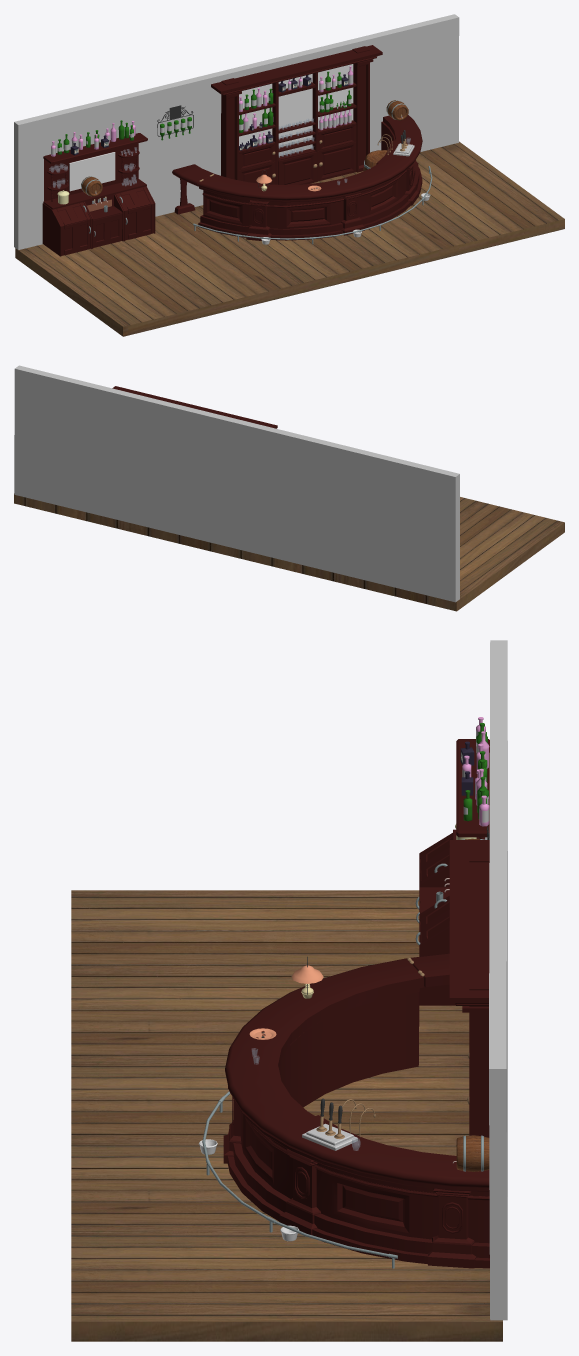
The model's file is Day2_Bar.fbx.
The picture shows the model from 3 angles, top to bottom: view 1: azimuth 30°, elevation 25°; view 2: azimuth 150°, elevation 25°; view 3: azimuth 270°, elevation 25°; orthographic projection. The views are drawn at different scales.
Parts seen in each view (by area): view 1: Plane.038, Wand.Bar, Cube.045, Circle.011, Circle.012, Plane.007, Plane.035, Plane.009, Circle.007, Plane.024, Plane, Plane.025 (+10 smaller); view 2: Wand.Bar, Plane.038, Cube.045; view 3: Plane.038, Circle.011, Circle.012, Wand.Bar, Cube.045, Circle.007, Plane.024, Circle.018, Cube.061, Cylinder.044, Circle.014, Plane.035 (+1 smaller).
Part boxes in pixels (x1,y1,x2,y2): Plane.038: [15, 141, 564, 336]; Wand.Bar: [14, 14, 459, 249]; Cube.045: [211, 45, 382, 184]; Circle.011: [198, 121, 422, 240]; Circle.012: [172, 115, 422, 200]; Plane.007: [239, 64, 353, 146]; Plane.035: [42, 202, 91, 256]; Plane.009: [318, 125, 356, 181]; Circle.007: [246, 160, 418, 240]; Plane.024: [115, 186, 155, 240]; Plane: [44, 143, 138, 201]; Plane.025: [69, 152, 115, 191]; Wand.Bar: [14, 365, 459, 602]; Plane.038: [14, 493, 564, 611]; Cube.045: [112, 386, 277, 428]; Plane.038: [71, 890, 502, 1341]; Circle.011: [227, 988, 489, 1268]; Circle.012: [225, 953, 489, 1187]; Wand.Bar: [489, 640, 507, 1320]; Cube.045: [449, 840, 489, 1137]; Circle.007: [223, 1086, 476, 1268]; Plane.024: [419, 897, 455, 1005]; Circle.018: [462, 717, 489, 826]; Cube.061: [456, 739, 489, 837]; Cylinder.044: [453, 1135, 489, 1171]; Circle.014: [202, 1091, 397, 1268]; Plane.035: [419, 833, 453, 883].
Size of the model in its own units: 1670 by 489 by 714.
